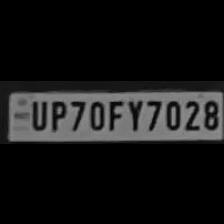0: (86, 96, 106, 130), (162, 96, 180, 130)
2: (182, 96, 200, 130)
7: (142, 96, 162, 130), (65, 96, 84, 130)
8: (200, 96, 220, 130)
F: (106, 96, 124, 130)
P: (46, 97, 68, 131)
U: (26, 96, 48, 130)
Y: (124, 97, 142, 131)
